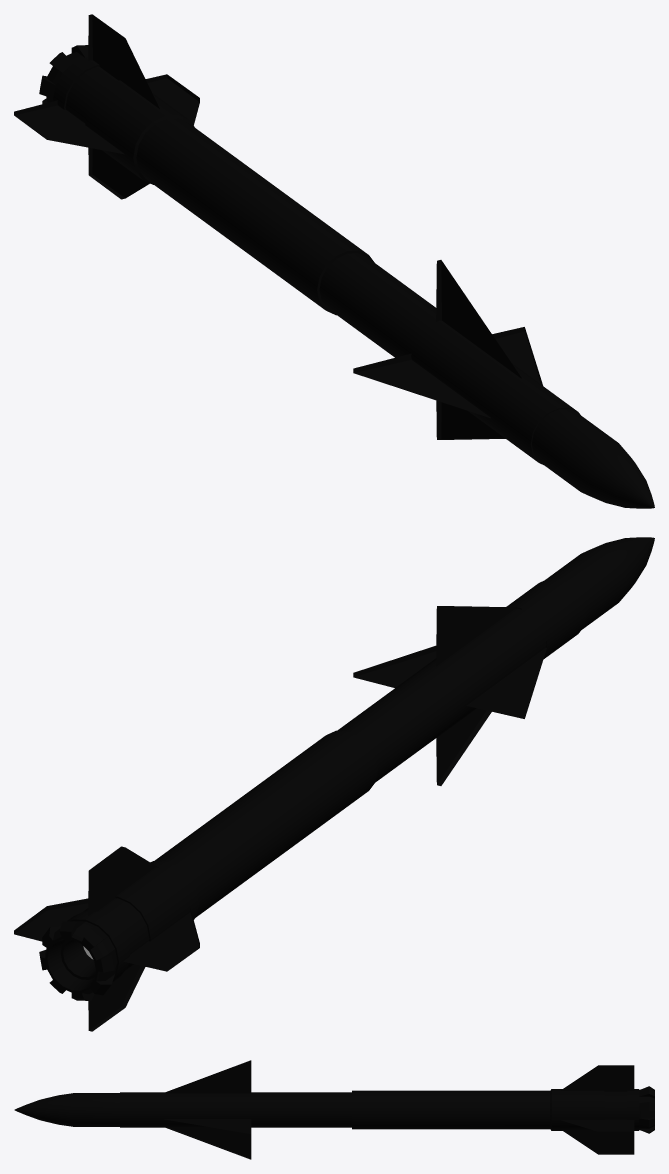
Rendered from Missle.obj.
3 views of the same model, one above another, from view 1: azimuth 30°, elevation 25°; view 2: azimuth 150°, elevation 25°; view 3: azimuth 270°, elevation 25° (orthographic). The views are drawn at different scales.
Parts seen in each view (by area): view 1: Missle; view 2: Missle; view 3: Missle.
Boxes of the visible parts, x1=… form: Missle: x1=14, y1=14, x2=654, y2=508; Missle: x1=14, y1=537, x2=654, y2=1031; Missle: x1=14, y1=1060, x2=654, y2=1159.
Bounding box in the file's own units: 1.3 × 1.3 × 7.68.
1 material, 1 textured.
